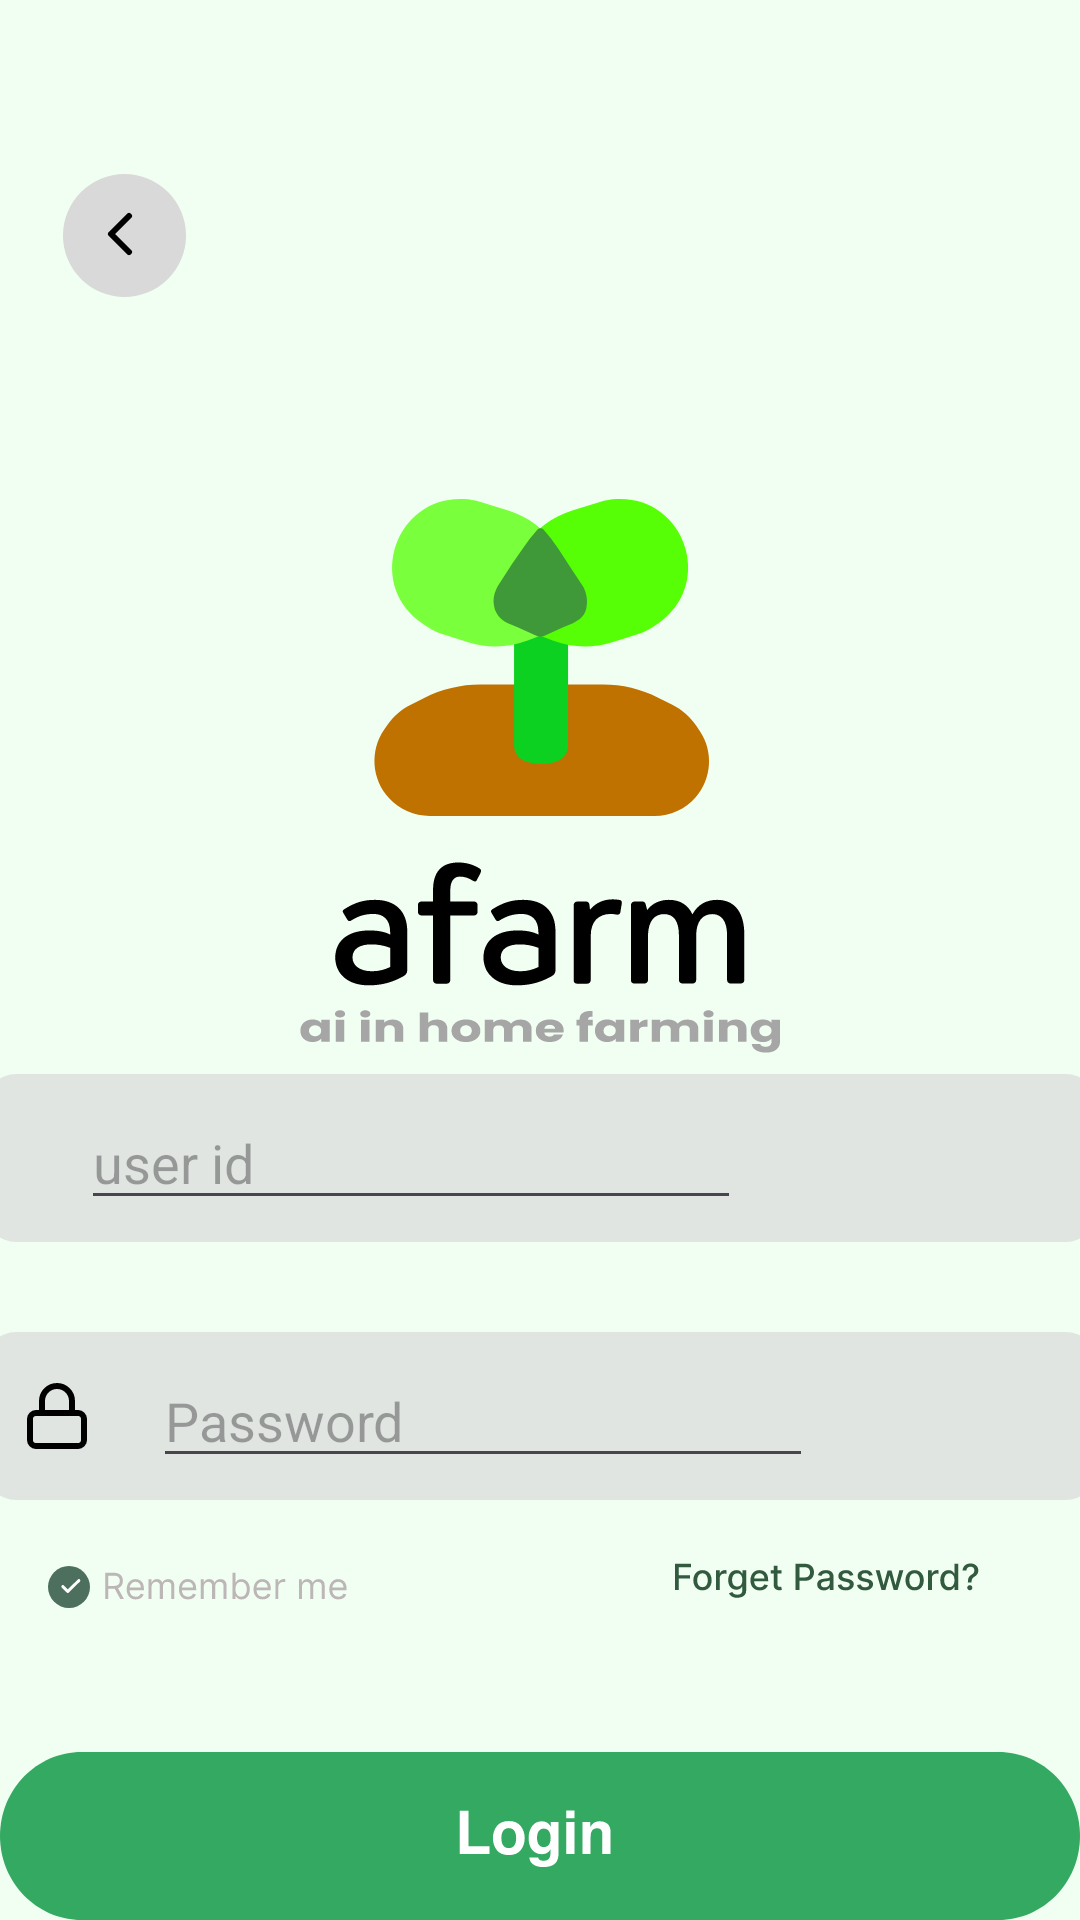

Named icons in this screenshot (1080w x 1920h) and their centers, (x=x, y=y):
lock: (x=57, y=1416)
login farmimage: (x=541, y=657)
